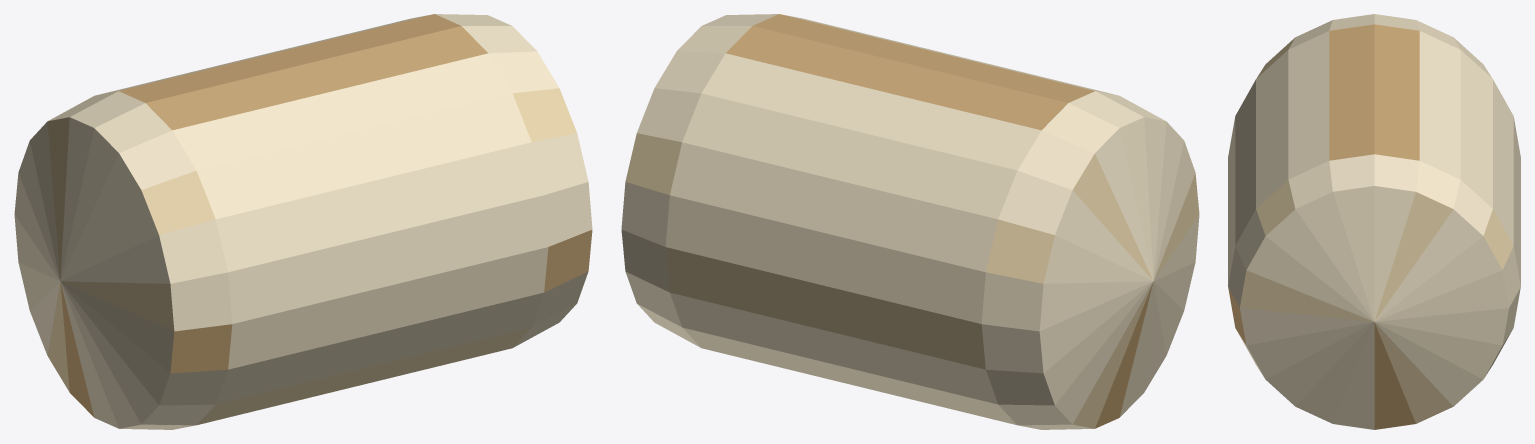
The model's file is knedlik.glb.
3 views of the same model, side by side, from view 1: azimuth 30°, elevation 25°; view 2: azimuth 150°, elevation 25°; view 3: azimuth 270°, elevation 25° (orthographic). The views are drawn at different scales.
Parts seen in each view (by area): view 1: half_b_dumpling_crust, half_a_dumpling_crust, half_b_bread_fleck, half_b_dumpling_warm, half_a_bread_fleck, half_a_dumpling_warm; view 2: half_b_dumpling_crust, half_a_dumpling_crust, half_b_dumpling_warm, half_b_bread_fleck, half_a_dumpling_warm, half_a_bread_fleck; view 3: half_a_dumpling_crust, half_b_dumpling_crust, half_a_dumpling_warm, half_a_bread_fleck, half_b_bread_fleck.
Part boxes in pixels (x1,y1,x2,y2): half_b_dumpling_crust: (14, 53, 390, 429); half_a_dumpling_crust: (255, 14, 592, 365); half_b_bread_fleck: (60, 52, 329, 417); half_b_dumpling_warm: (47, 117, 373, 424); half_a_bread_fleck: (277, 14, 592, 292); half_a_dumpling_warm: (355, 88, 576, 386); half_b_dumpling_crust: (823, 53, 1199, 429); half_a_dumpling_crust: (621, 14, 958, 386); half_b_dumpling_warm: (823, 153, 1199, 428); half_b_bread_fleck: (884, 52, 1153, 428); half_a_dumpling_warm: (625, 133, 827, 330); half_a_bread_fleck: (726, 14, 936, 91); half_a_dumpling_crust: (1228, 96, 1520, 429); half_b_dumpling_crust: (1228, 14, 1520, 221); half_a_dumpling_warm: (1240, 180, 1513, 423); half_a_bread_fleck: (1228, 89, 1419, 429); half_b_bread_fleck: (1329, 24, 1419, 95).
Bounding box in the file's own units: 0.42 × 0.26 × 0.26.
